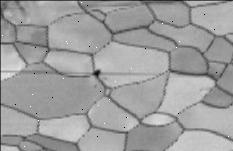good_void: (91, 69, 101, 77)
